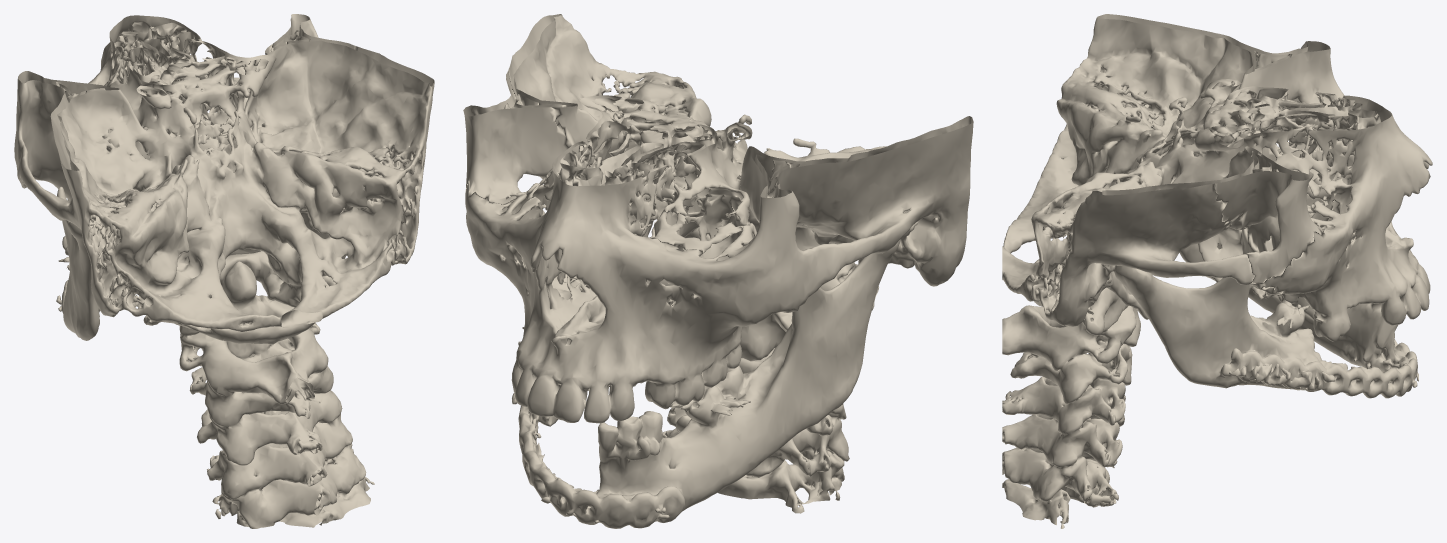
File: bone.glb
The picture shows the model from 3 angles, left to right: view 1: azimuth 30°, elevation 25°; view 2: azimuth 150°, elevation 25°; view 3: azimuth 270°, elevation 25°; orthographic projection. The views are drawn at different scales.
Parts seen in each view (by area): view 1: bone; view 2: bone; view 3: bone.
Boxes of the visible parts, x1,y1,x2,y2 form: bone: [14, 14, 434, 528]; bone: [463, 14, 973, 528]; bone: [1002, 14, 1432, 528].
Size of the model in its own units: 0.136 by 0.1307 by 0.1365.
